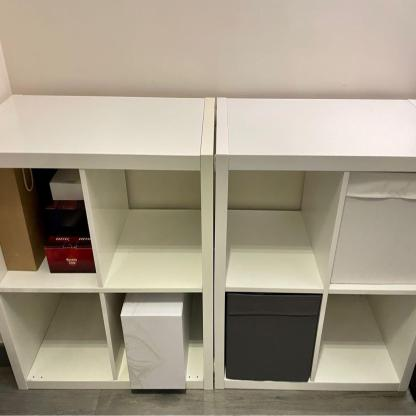lamp: (0, 93, 215, 392), (214, 95, 416, 393)
